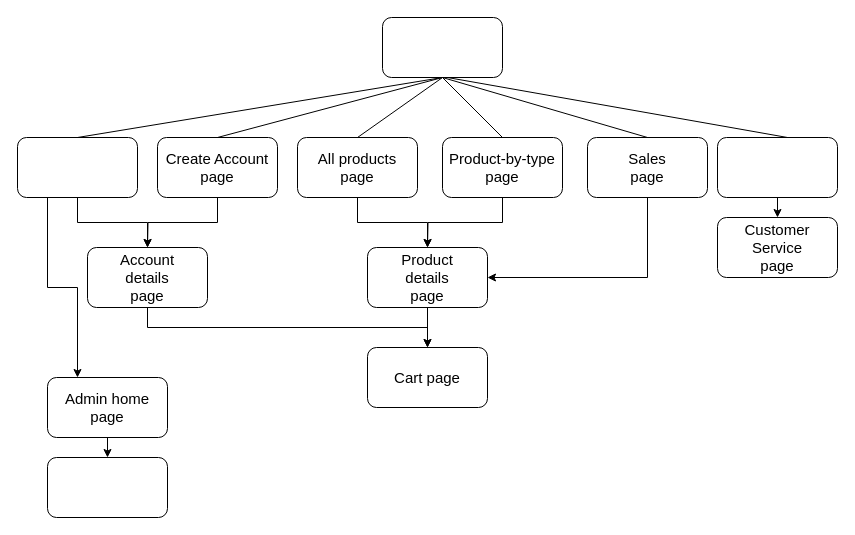
The diagram is 855 pixels wide and 535 high, and some of its shapes have lost their labels. Here are the shapes that lost their labels. From the top down, the box of each, then its label:
(382, 16, 502, 78): Home page
(16, 136, 138, 198): Login page
(716, 136, 838, 198): FAQ page
(46, 456, 168, 518): Orders page
